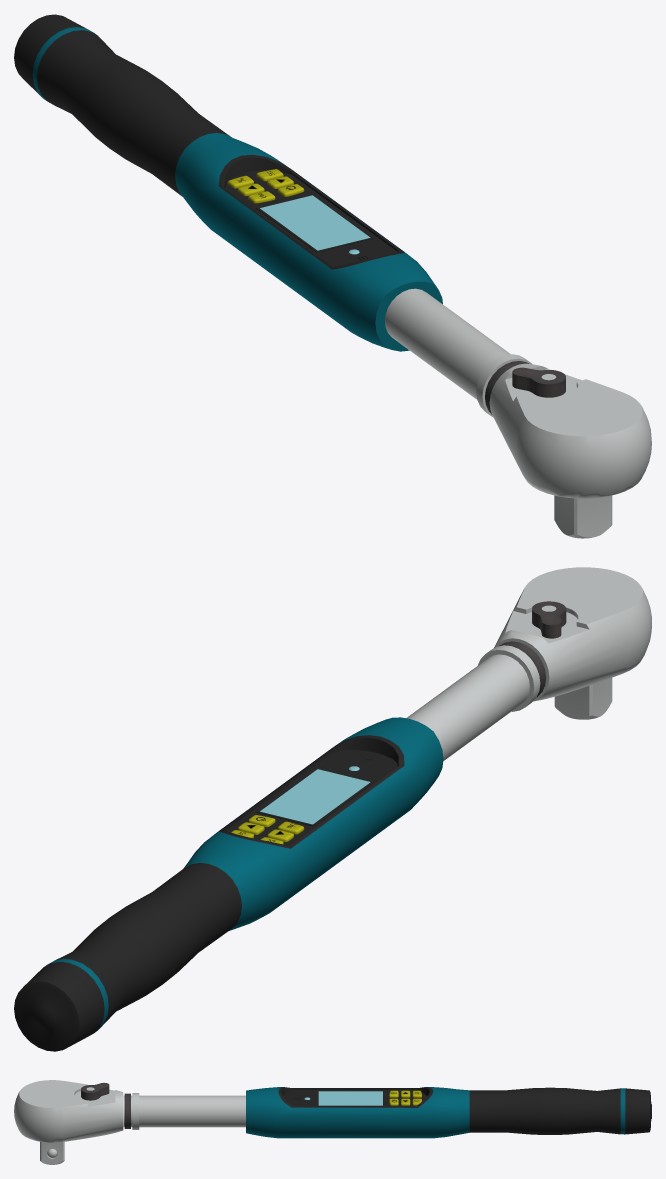
The model's file is NiuLIBanShou_S_ShuXian.FBX.
3 renders of one model, top to bottom at view 1: azimuth 30°, elevation 25°; view 2: azimuth 150°, elevation 25°; view 3: azimuth 270°, elevation 25°, orthographic. The views are drawn at different scales.
Visible parts, largest first — view 1: NiuLIBanShou_S_ShuXian; view 2: NiuLIBanShou_S_ShuXian; view 3: NiuLIBanShou_S_ShuXian.
Part boxes in pixels (bbox=[...]): NiuLIBanShou_S_ShuXian: bbox=[14, 14, 651, 538]; NiuLIBanShou_S_ShuXian: bbox=[14, 567, 651, 1051]; NiuLIBanShou_S_ShuXian: bbox=[14, 1080, 651, 1164].
Bounding box in the file's own units: 1.84 × 15.43 × 1.89.
